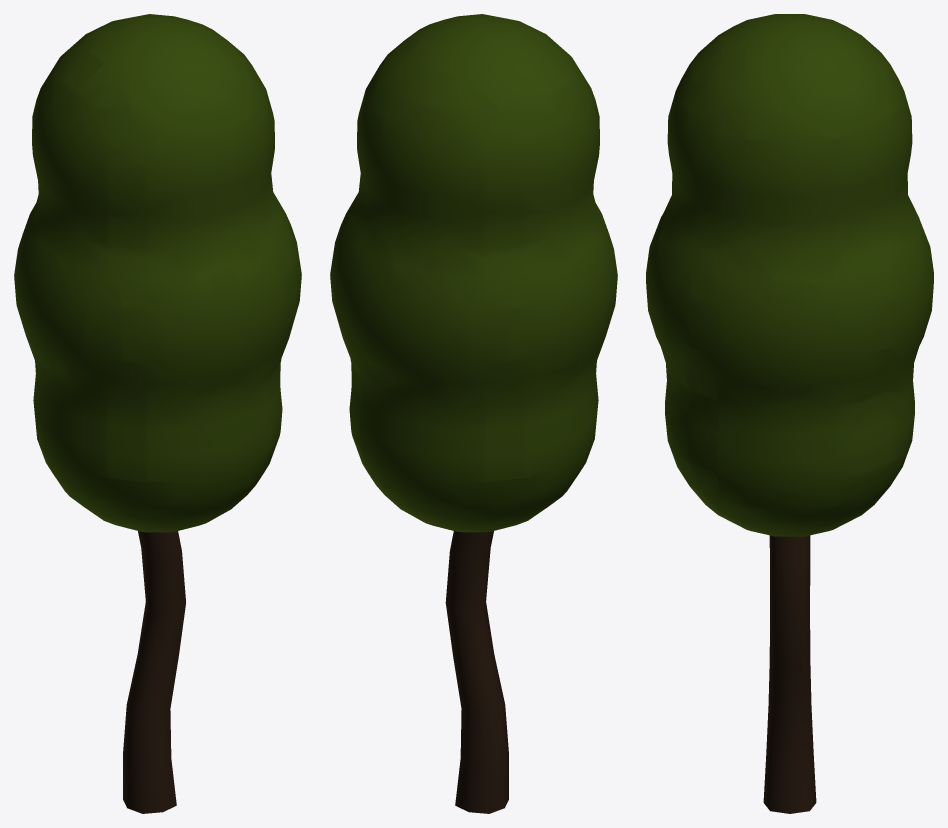
3 renders of one model, left to right at view 1: azimuth 30°, elevation 25°; view 2: azimuth 150°, elevation 25°; view 3: azimuth 270°, elevation 25°, orthographic.
Visible parts, largest first — view 1: Tree_2.021_Cube.050; view 2: Tree_2.021_Cube.050; view 3: Tree_2.021_Cube.050.
Boxes of the visible parts, <box> form: Tree_2.021_Cube.050: <box>14,14,301,813</box>; Tree_2.021_Cube.050: <box>330,14,617,813</box>; Tree_2.021_Cube.050: <box>646,14,933,813</box>.
Size of the model in its own units: 241 by 720 by 241.
